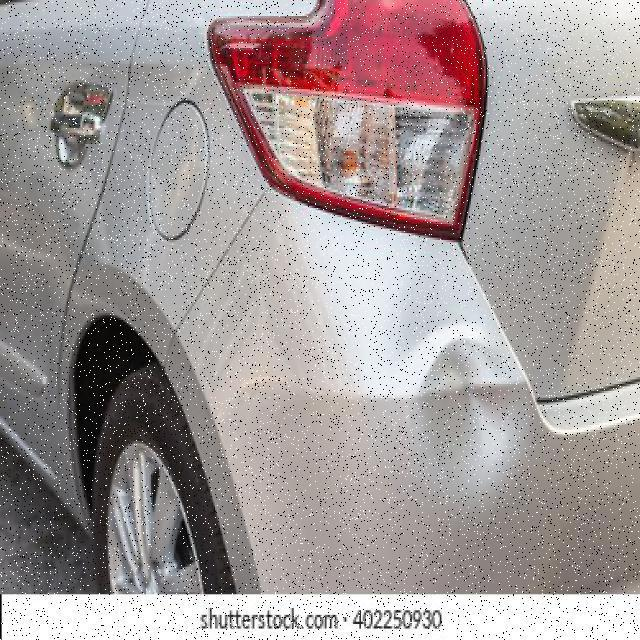car damage: (166, 322, 639, 597)
